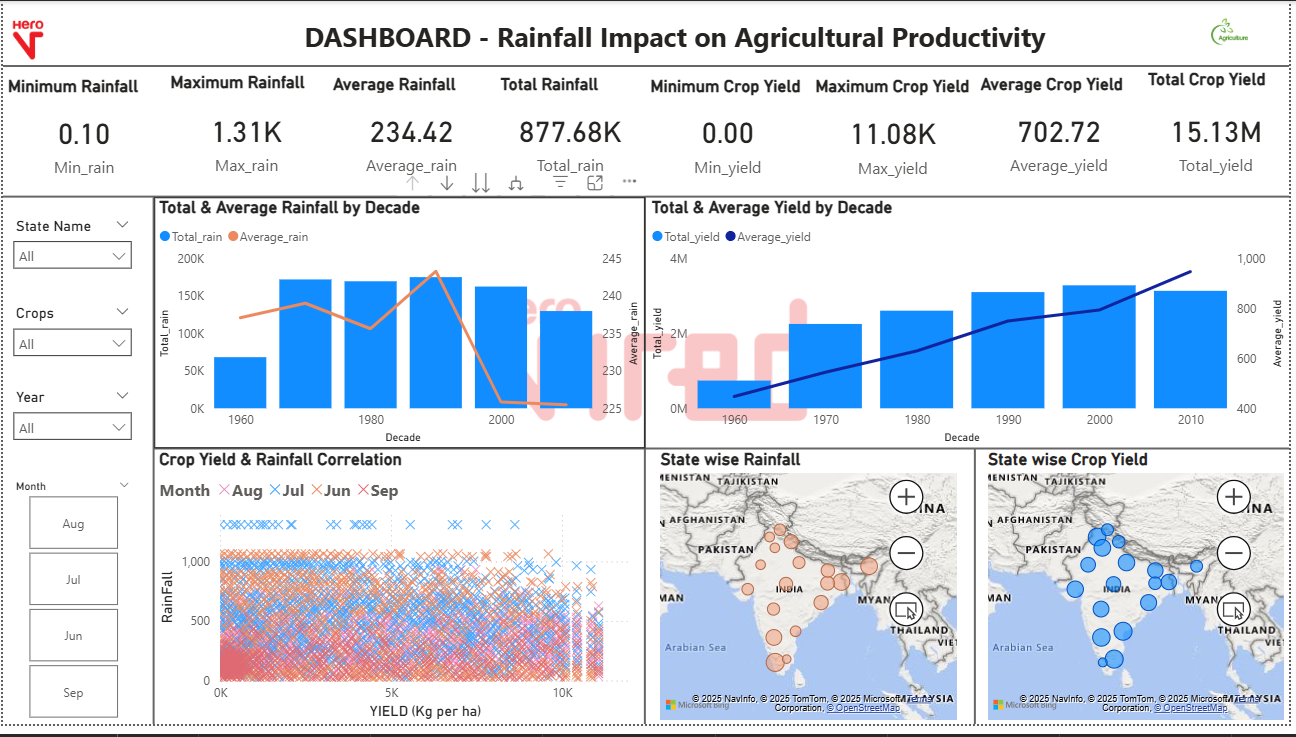

This screenshot's page, from the dashboard's own definition file:
{"tool":"powerbi","page":{"name":"Final Dashboard-1","canvas":[1280,720],"ordinal":0},"visuals":[{"type":"shape","box":[0,47.3,1280,34.8],"z":0},{"type":"image","box":[0,0,51,74.6],"z":1000},{"type":"textbox","box":[287.4,12.4,760.1,48.5],"z":2000},{"type":"slicer","fields":{"Values":["Dim_year.Year"]},"box":[0,380.7,138.1,64.7],"z":3000},{"type":"slicer","fields":{"Values":["Dim_crop.Crops"]},"box":[0,297.3,138.1,62.2],"z":4000},{"type":"slicer","fields":{"Values":["Dim_state.State Name"]},"box":[0,210.2,138.1,62.2],"z":5000},{"type":"shape","box":[0,179.1,1280,31.1],"z":6000},{"type":"scatterChart","title":"Crop Yield & Rainfall Correlation","fields":{"X":["Fact_agri.YIELD (Kg per ha)"],"Series":["Fact_rain.Month"],"Y":["Fact_rain.RainFall"]},"box":[150.5,445.3,488.9,274.9],"z":7000},{"type":"map","title":"State wise Crop Yield","fields":{"Category":["Dim_state.State Name"],"Size":["Sum(Fact_agri.YIELD (Kg per ha))"]},"box":[975.3,445.3,304.8,274.9],"z":8000},{"type":"shape","box":[150.5,425.4,1129.5,39.8],"z":9000},{"type":"shape","box":[954.1,445.3,26.1,274.9],"z":10000},{"type":"map","title":"State wise Rainfall","fields":{"Category":["Dim_state.State Name"],"Size":["All_Measures.Total_rain"]},"box":[649.3,445.3,304.8,274.9],"z":11000},{"type":"shape","box":[628.2,194.1,21.1,526.2],"z":12000},{"type":"slicer","fields":{"Values":["Dim_rain_month.Month"]},"box":[0,471.5,138.1,248.8],"z":13000},{"type":"shape","box":[138.1,195.3,23.6,525],"z":14000},{"type":"lineStackedColumnComboChart","title":"Total & Average Rainfall by Decade","fields":{"Category":["Dim_year.Decade Hierarchy.Decade","Dim_year.Decade Hierarchy.YearStart"],"Y2":["All_Measures.Average_rain"],"Y":["All_Measures.Total_rain"]},"box":[150.5,195.3,488.9,250],"z":15000},{"type":"lineStackedColumnComboChart","title":"Total & Average Yield by Decade","fields":{"Category":["Dim_year.Decade Hierarchy.Decade","Dim_year.Decade Hierarchy.YearStart"],"Y":["All_Measures.Total_yeild"],"Y2":["All_Measures.Average_yeild"]},"box":[640.6,195.3,639.4,250],"z":16000},{"type":"card","title":"Average Crop Yield","fields":{"Values":["All_Measures.Average_yeild"]},"box":[967.8,72.1,166.7,114.4],"z":17000},{"type":"card","title":"Average Rainfall","fields":{"Values":["All_Measures.Average_rain"]},"box":[323.4,72.1,166.7,114.4],"z":18000},{"type":"card","title":"Total Crop Yield","fields":{"Values":["All_Measures.Total_yeild"]},"box":[1134.5,67.2,145.5,124.4],"z":19000},{"type":"card","title":"Maximum Crop Yield","fields":{"Values":["All_Measures.Max_yeild"]},"box":[803.6,74.6,164.2,114.4],"z":20000},{"type":"card","title":"Minimum Crop Yield","fields":{"Values":["All_Measures.Min_yeild"]},"box":[639.4,74.6,164.2,112],"z":21000},{"type":"card","title":"Total Rainfall","fields":{"Values":["All_Measures.Total_rain"]},"box":[490.1,72.1,149.3,114.4],"z":22000},{"type":"card","title":"Maximum Rainfall","fields":{"Values":["All_Measures.Max_rain"]},"box":[161.7,70.9,161.7,116.9],"z":23000},{"type":"card","title":"Minimum Rainfall","fields":{"Values":["All_Measures.Min_rain"]},"box":[0,74.6,161.7,113.2],"z":24000},{"type":"image","box":[1160.6,0,119.4,61],"z":25000}]}

Visuals, with their boxes on the page's 1280x720 design canvas (x1, y1, x2, y2). These are canvas units, not pixel positions in the 1296x737 screenshot, which may show the page scaled, cropped or inside an application window:
shape: [x1=0, y1=47, x2=1280, y2=82]
image: [x1=0, y1=0, x2=51, y2=75]
textbox: [x1=287, y1=12, x2=1048, y2=61]
slicer - Dim_year.Year: [x1=0, y1=381, x2=138, y2=445]
slicer - Dim_crop.Crops: [x1=0, y1=297, x2=138, y2=360]
slicer - Dim_state.State Name: [x1=0, y1=210, x2=138, y2=272]
shape: [x1=0, y1=179, x2=1280, y2=210]
"Crop Yield & Rainfall Correlation" scatterChart: [x1=150, y1=445, x2=639, y2=720]
"State wise Crop Yield" map: [x1=975, y1=445, x2=1280, y2=720]
shape: [x1=150, y1=425, x2=1280, y2=465]
shape: [x1=954, y1=445, x2=980, y2=720]
"State wise Rainfall" map: [x1=649, y1=445, x2=954, y2=720]
shape: [x1=628, y1=194, x2=649, y2=720]
slicer - Dim_rain_month.Month: [x1=0, y1=472, x2=138, y2=720]
shape: [x1=138, y1=195, x2=162, y2=720]
"Total & Average Rainfall by Decade" lineStackedColumnComboChart: [x1=150, y1=195, x2=639, y2=445]
"Total & Average Yield by Decade" lineStackedColumnComboChart: [x1=641, y1=195, x2=1280, y2=445]
"Average Crop Yield" card: [x1=968, y1=72, x2=1134, y2=186]
"Average Rainfall" card: [x1=323, y1=72, x2=490, y2=186]
"Total Crop Yield" card: [x1=1134, y1=67, x2=1280, y2=192]
"Maximum Crop Yield" card: [x1=804, y1=75, x2=968, y2=189]
"Minimum Crop Yield" card: [x1=639, y1=75, x2=804, y2=187]
"Total Rainfall" card: [x1=490, y1=72, x2=639, y2=186]
"Maximum Rainfall" card: [x1=162, y1=71, x2=323, y2=188]
"Minimum Rainfall" card: [x1=0, y1=75, x2=162, y2=188]
image: [x1=1161, y1=0, x2=1280, y2=61]
